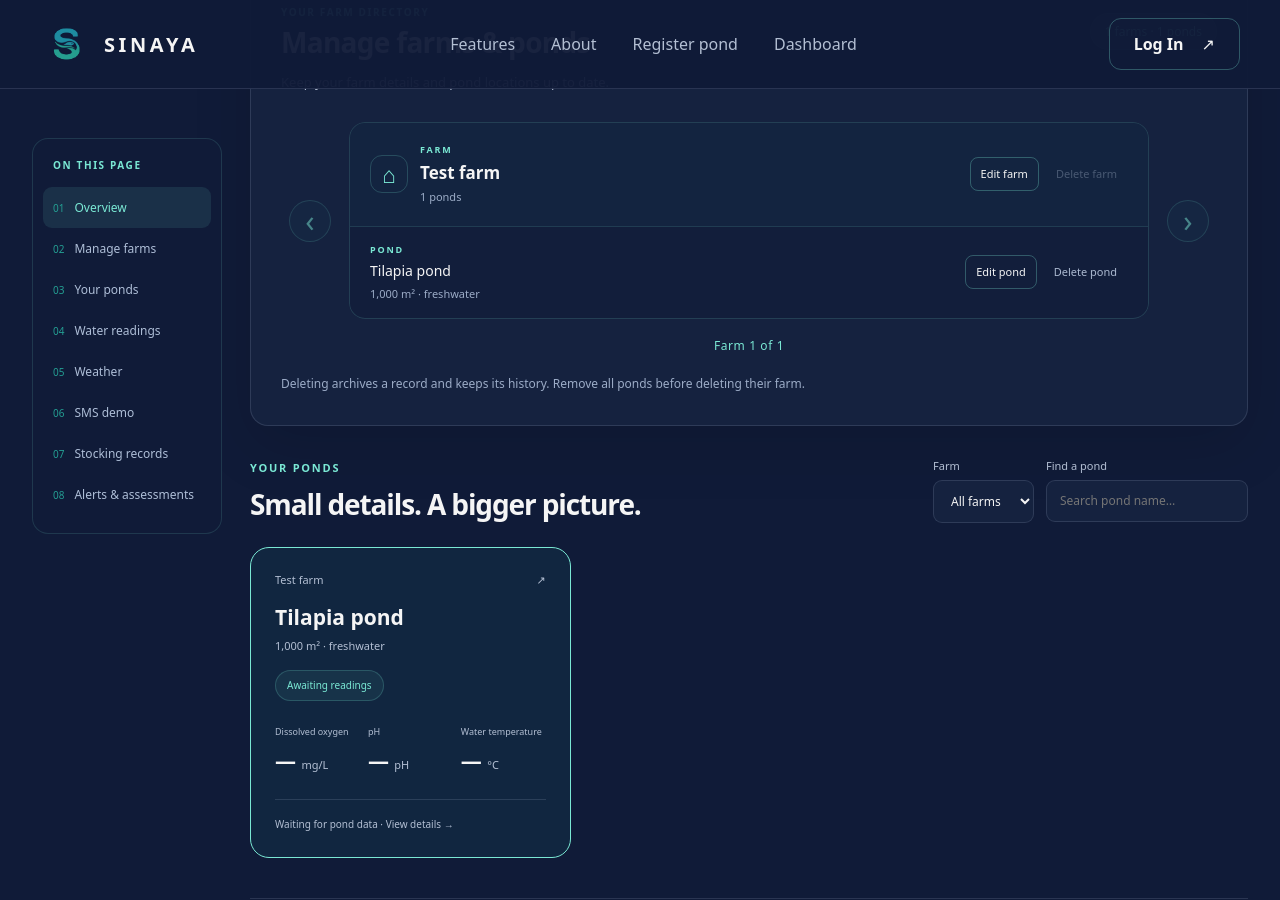
Scenario: filters ponds and explains no matches
This screenshot has width=1280, height=900.
(page scrolled)
Type "nonexistent" into the search field labelled "Find a pond" at (1147, 501), box [1046, 480, 1248, 522]
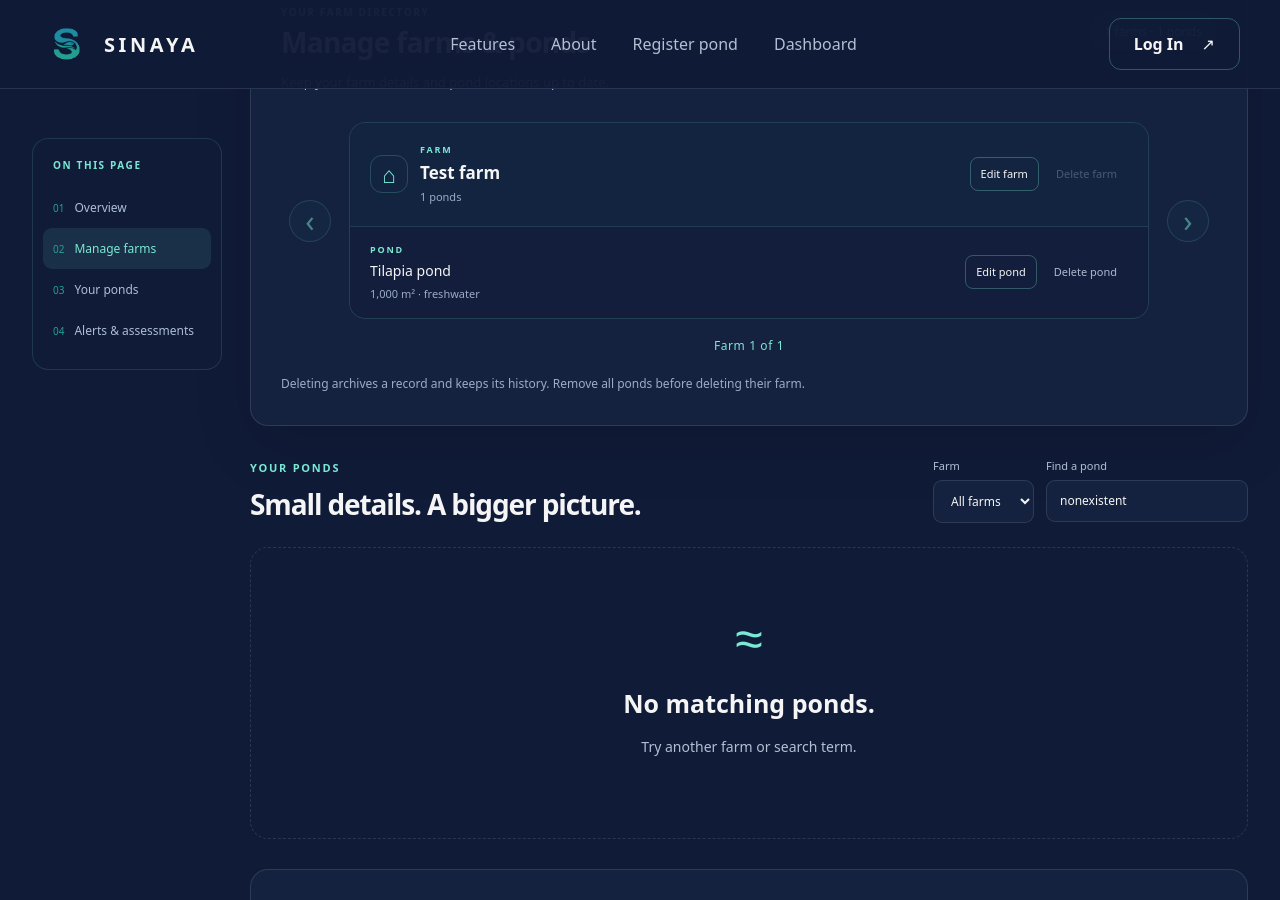
Expected: the heading "No matching ponds." is shown, [623, 686, 875, 720]
